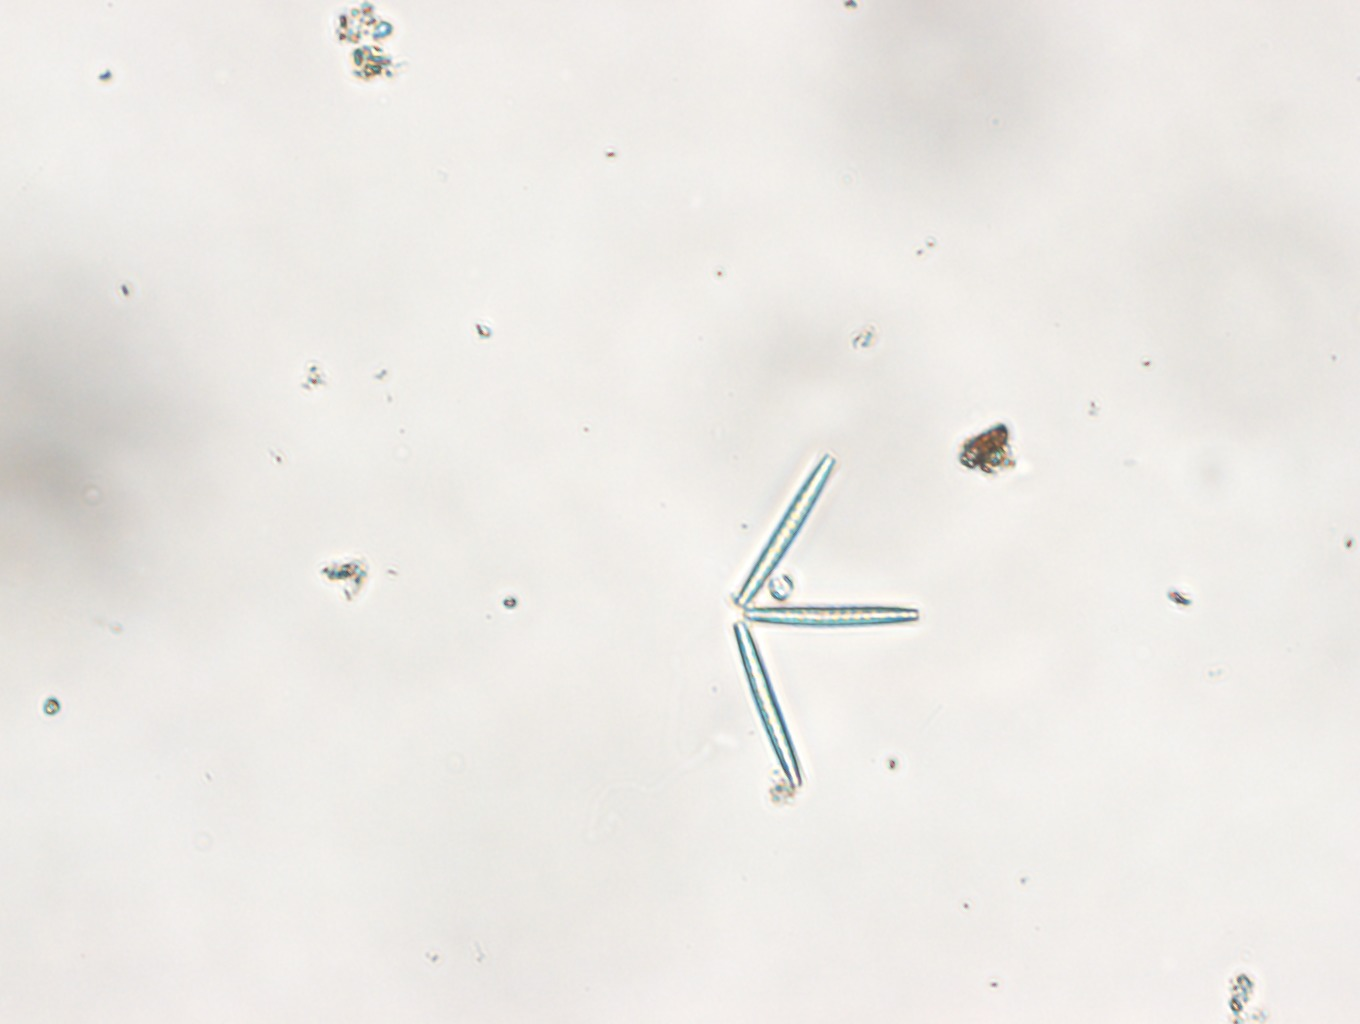thalassionema nitzschioides: (729, 452, 922, 795)
